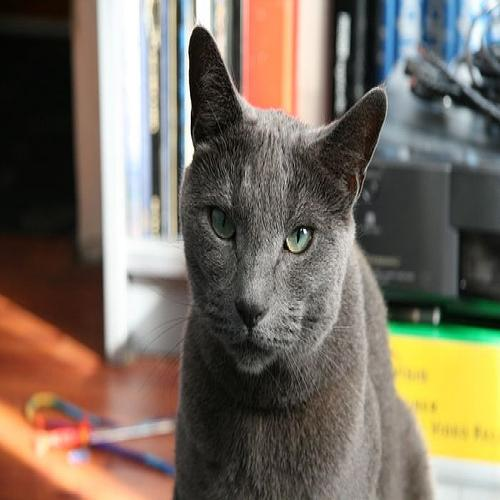rblue: (177, 21, 406, 424)
